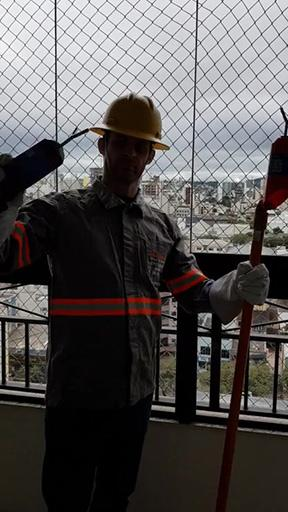Detector_Tensao_Contato: (1, 123, 90, 192)
Vara_Manobra: (216, 205, 270, 512)
